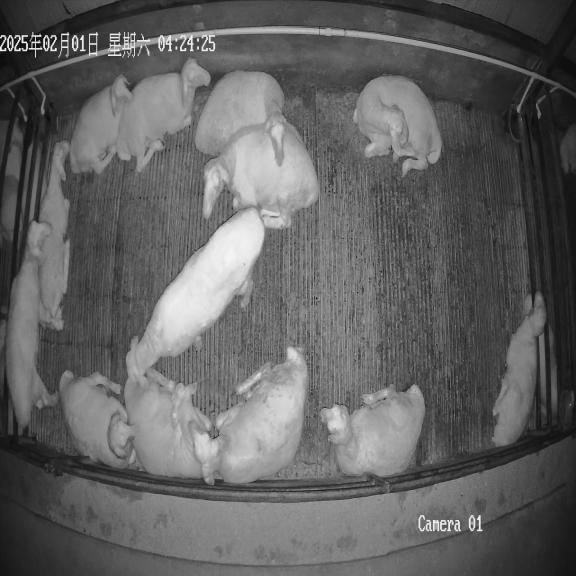lying: (189, 346, 308, 484), (202, 119, 319, 228), (116, 58, 210, 172), (320, 385, 425, 478), (124, 368, 212, 478), (353, 75, 442, 176), (492, 292, 546, 446), (195, 71, 286, 161), (59, 370, 136, 468), (70, 75, 133, 174), (39, 140, 70, 330)
stand: (126, 208, 265, 385), (5, 222, 55, 433)
